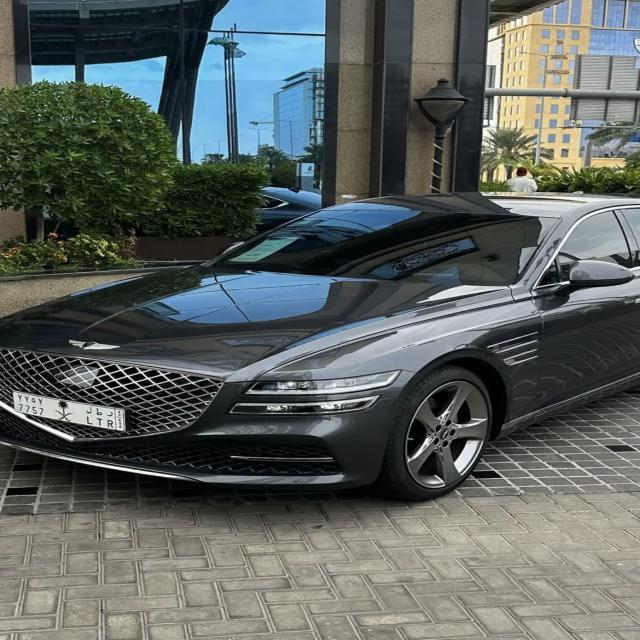license_plate: (13, 389, 125, 432)
